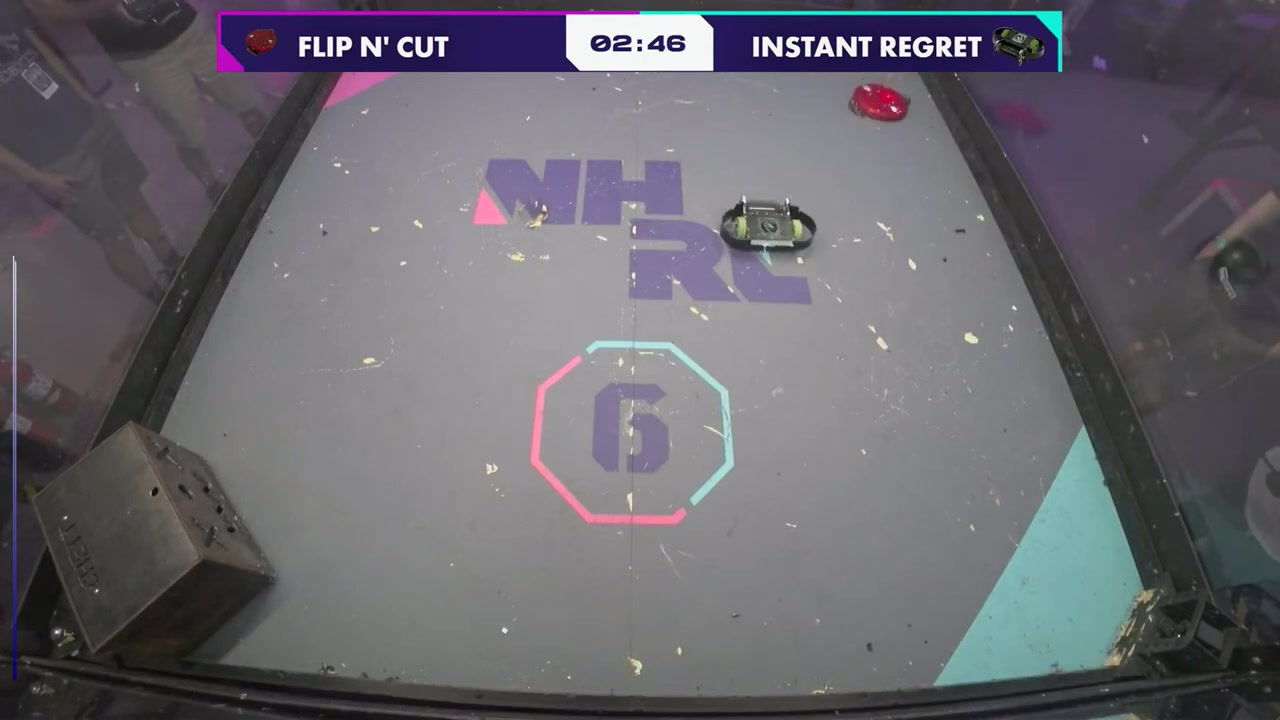combatbot: (718, 197, 819, 253), (846, 81, 912, 124)
housebot: (33, 418, 276, 662)
